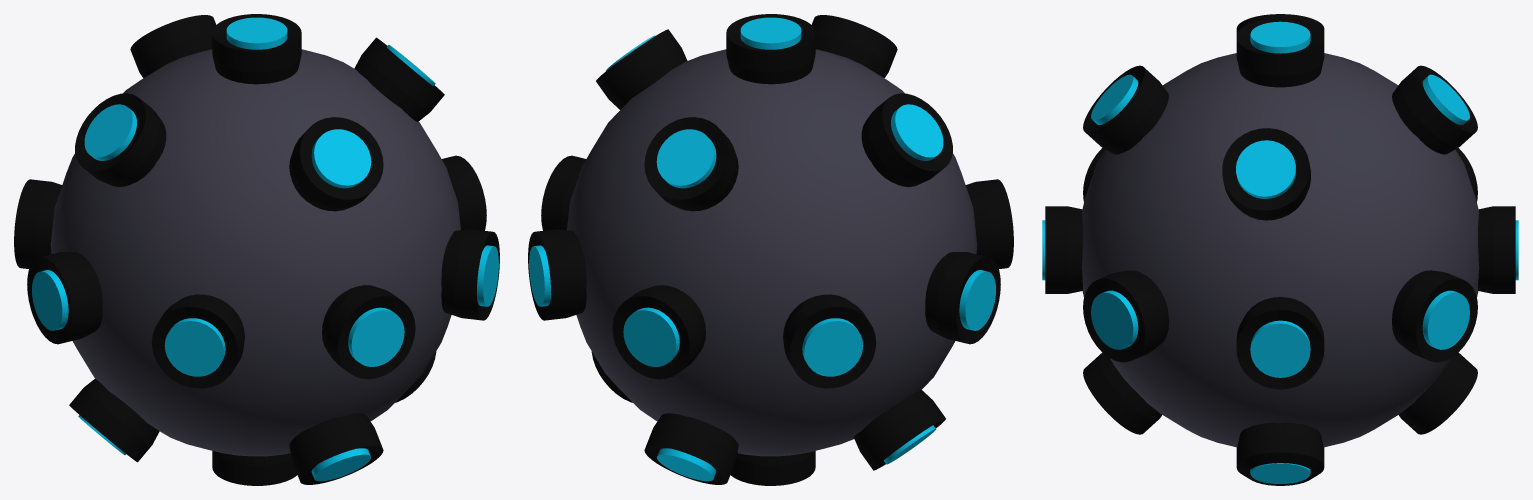
3 views of the same model, side by side, from view 1: azimuth 30°, elevation 25°; view 2: azimuth 150°, elevation 25°; view 3: azimuth 270°, elevation 25° (orthographic).
Parts seen in each view (by area): view 1: Cylinder.001, Cylinder.021; view 2: Cylinder.001, Cylinder.021; view 3: Cylinder.001, Cylinder.021.
Boxes of the visible parts, x1,y1,x2,y2 form: Cylinder.001: (50,49,460,456); Cylinder.021: (14,14,499,485); Cylinder.001: (567,49,977,456); Cylinder.021: (528,14,1013,485); Cylinder.001: (1081,53,1479,447); Cylinder.021: (1042,14,1518,485).
Bounding box in the file's own units: 234 × 234 × 234.
